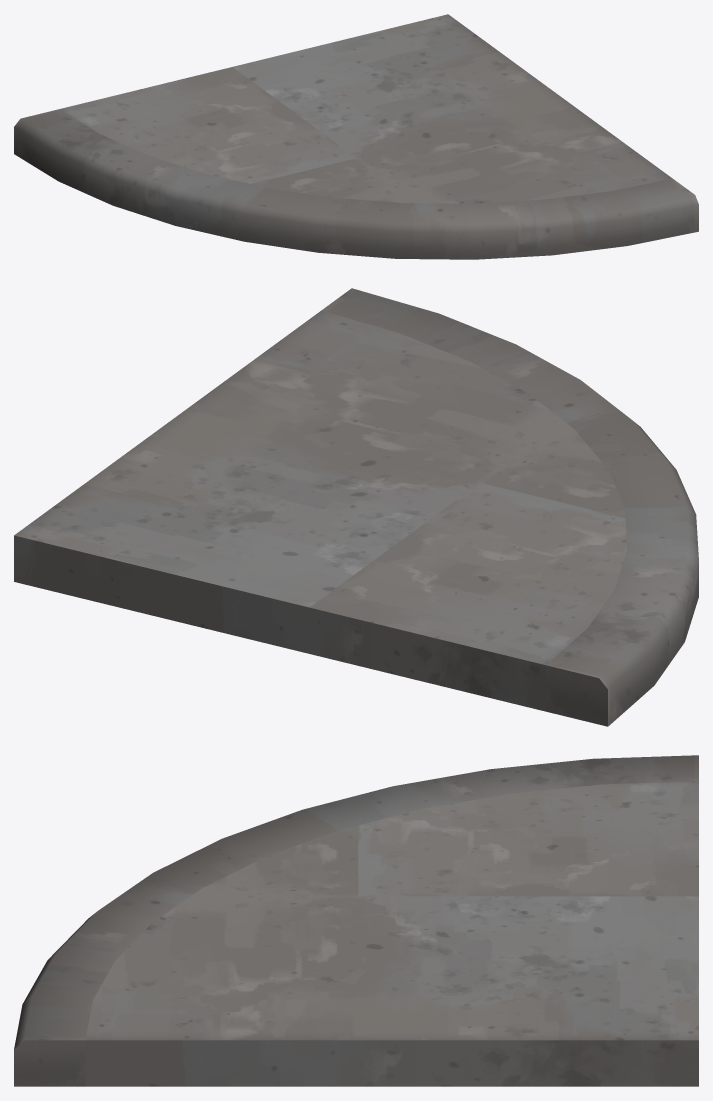
The model's file is Sidewalk_Corner_Round_2m.gltf.
3 views of the same model, one above another, from view 1: azimuth 30°, elevation 25°; view 2: azimuth 150°, elevation 25°; view 3: azimuth 270°, elevation 25° (orthographic). The views are drawn at different scales.
Visible parts, largest first — view 1: Sidewalk_Corner_Round_2m; view 2: Sidewalk_Corner_Round_2m; view 3: Sidewalk_Corner_Round_2m.
Boxes of the visible parts, bbox=[...] form: Sidewalk_Corner_Round_2m: bbox=[14, 14, 698, 259]; Sidewalk_Corner_Round_2m: bbox=[14, 288, 698, 726]; Sidewalk_Corner_Round_2m: bbox=[14, 755, 698, 1086].
Bounding box in the file's own units: 2.01 × 0.15 × 2.01.
1 material, 1 textured.
